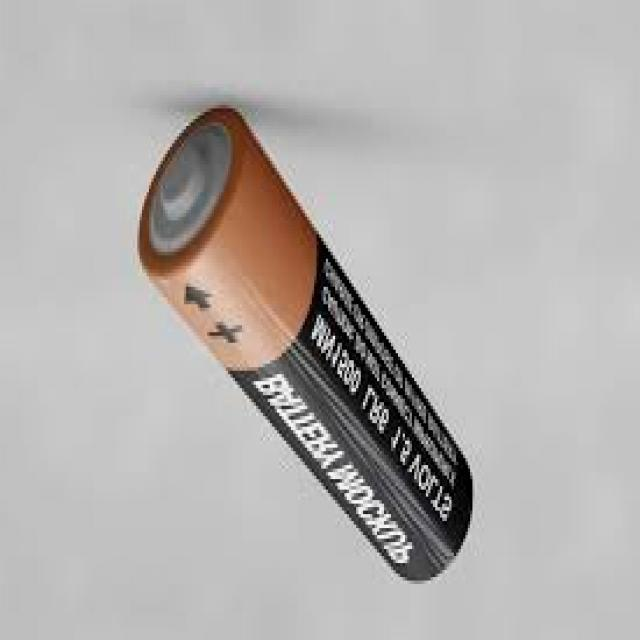battery: (138, 105, 473, 582)
